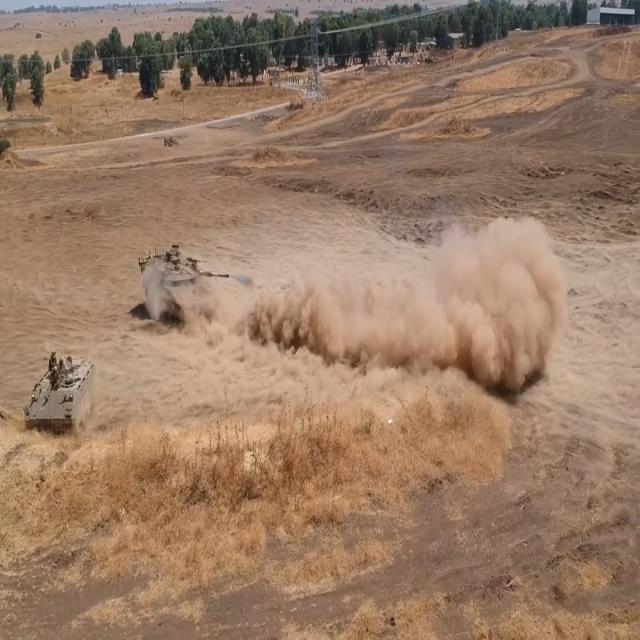tank: (132, 233, 232, 325)
